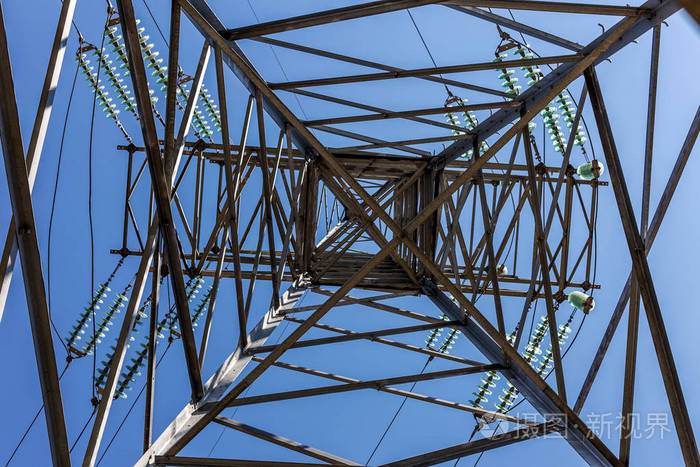insulator: (94, 309, 165, 392), (63, 280, 112, 345), (80, 292, 128, 358), (74, 52, 116, 120), (95, 46, 136, 115), (178, 78, 221, 136), (528, 314, 572, 369), (547, 93, 587, 153), (491, 45, 539, 92), (136, 20, 167, 89), (470, 374, 516, 412), (105, 25, 130, 79), (423, 321, 460, 355), (442, 97, 477, 131), (189, 277, 213, 325)
